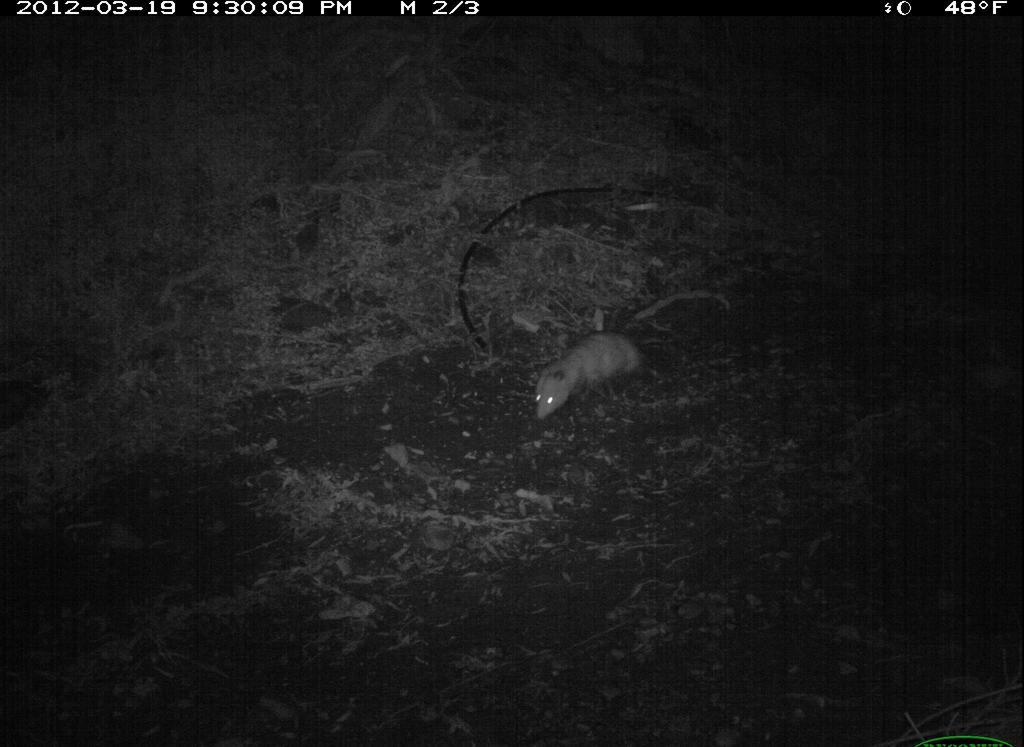opossum: (520, 323, 702, 427)
